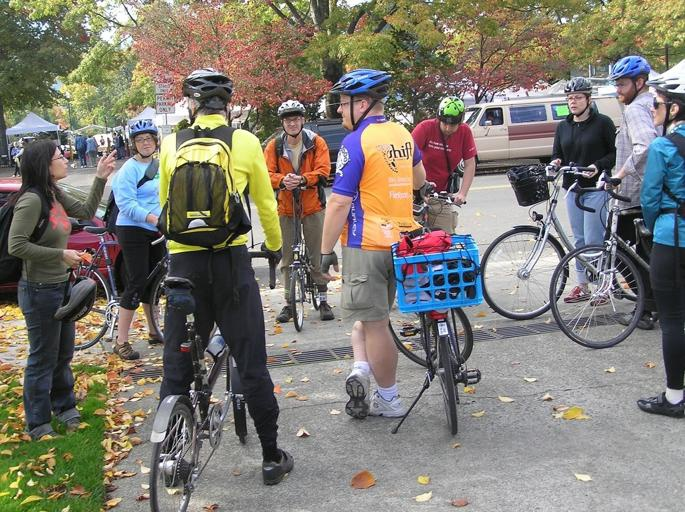non-vehicle: (376, 188, 484, 436), (480, 160, 638, 323), (148, 312, 247, 511), (66, 223, 218, 352), (548, 166, 650, 349), (273, 179, 321, 330), (413, 190, 466, 230)
